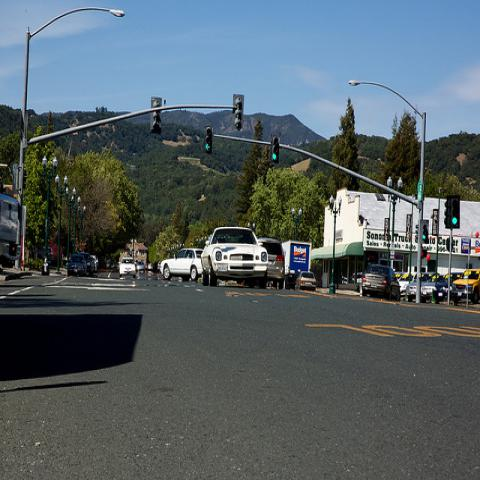car: (200, 227, 268, 289), (0, 193, 23, 276), (362, 262, 401, 302), (159, 248, 203, 282), (406, 272, 448, 305), (67, 254, 87, 277), (294, 271, 316, 291), (118, 257, 136, 278), (79, 252, 96, 274), (399, 273, 414, 296), (137, 263, 145, 272)
truck: (282, 240, 312, 288), (452, 271, 480, 304)
